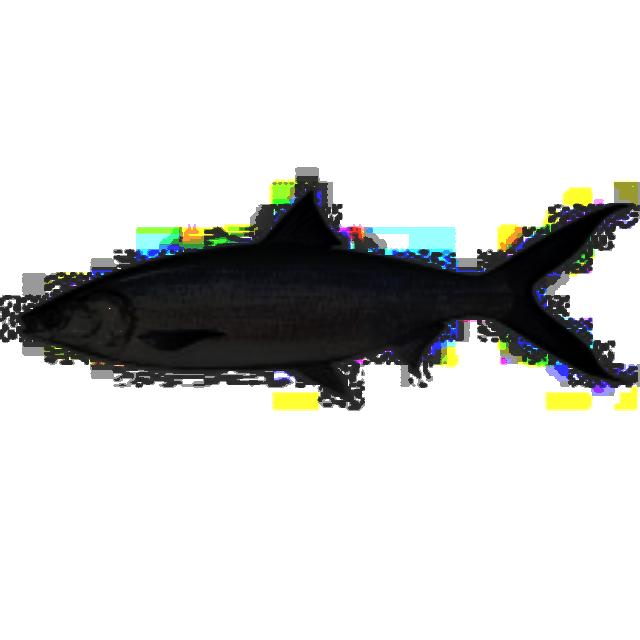Healthy Fish: (23, 191, 623, 393)
